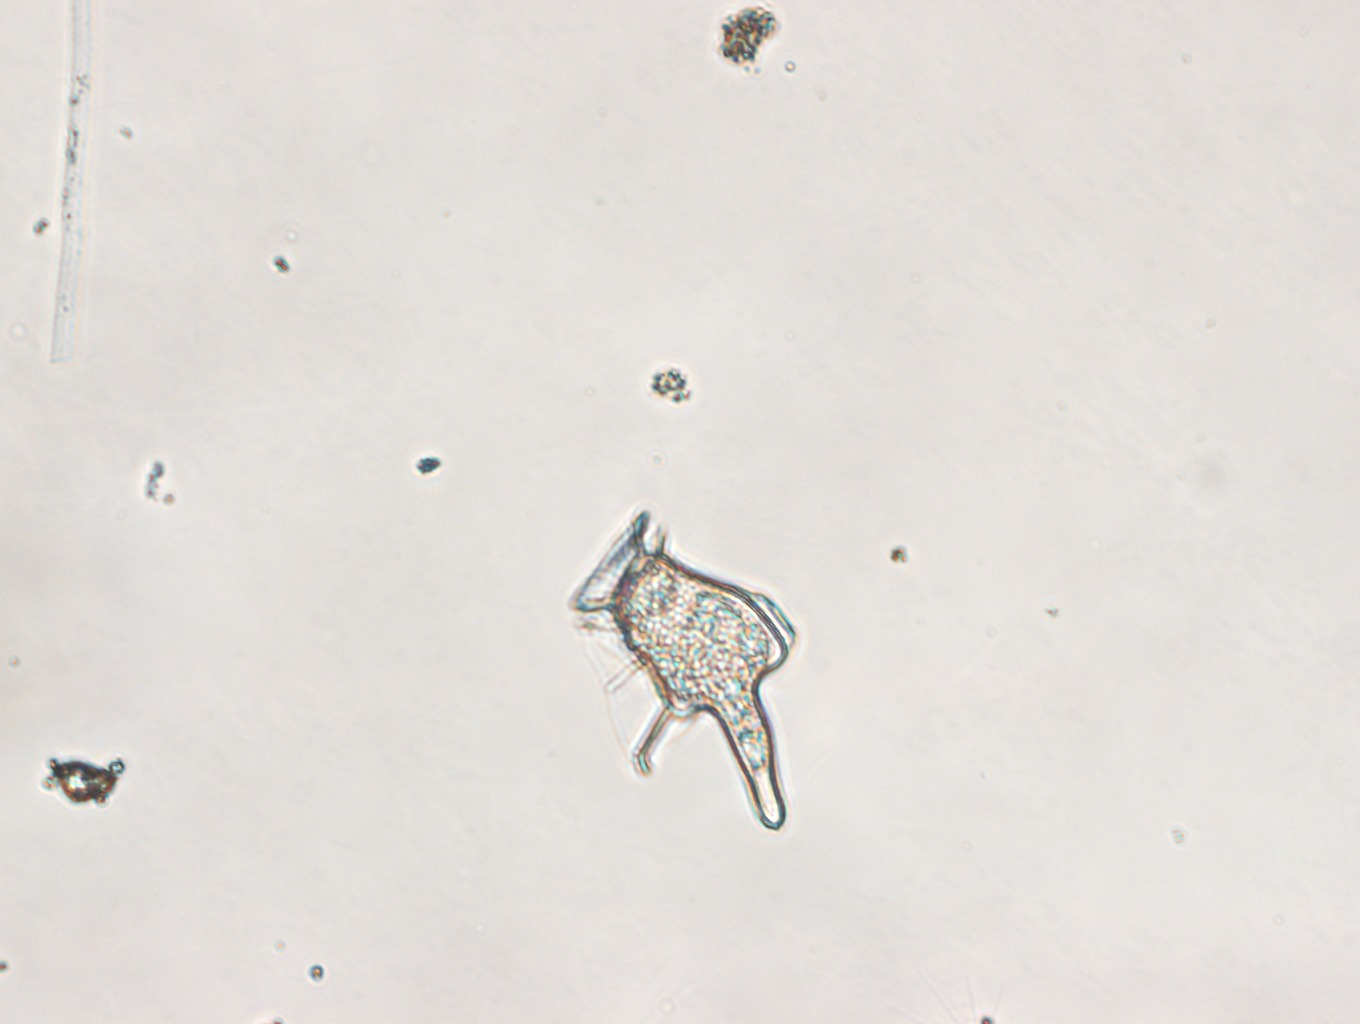dinophysis caudata: (566, 508, 797, 830)
